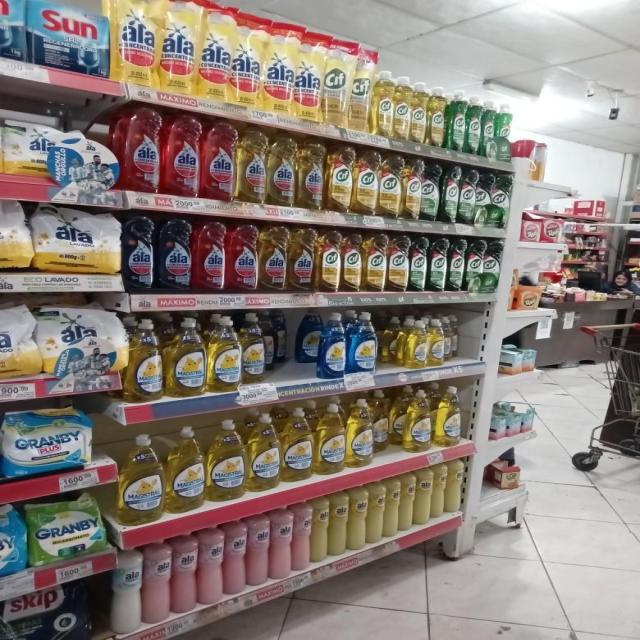ala_conc_amarillo: (237, 126, 266, 204), (268, 132, 296, 207), (296, 138, 324, 210), (260, 223, 288, 293), (289, 226, 316, 293)
ala_conc_azul: (121, 214, 156, 292), (158, 217, 192, 292)
ala_conc_rojo: (121, 104, 161, 194), (163, 111, 200, 198), (202, 118, 235, 201), (193, 220, 226, 292), (227, 221, 258, 293)
ala_crem_amarillo: (400, 472, 416, 532), (416, 468, 432, 526), (433, 464, 447, 521)
ala_crem_blanco: (109, 547, 142, 635)
ala_crem_rosado: (142, 541, 170, 624), (198, 525, 223, 606), (172, 534, 196, 614), (224, 520, 246, 596), (247, 514, 269, 588), (271, 508, 292, 580)
ala_sachet_amarillo: (112, 0, 157, 87), (160, 0, 197, 95), (198, 3, 232, 102), (232, 13, 262, 108), (263, 22, 293, 115), (294, 28, 322, 122), (323, 37, 347, 127)
cif_conc_bot_amarilla: (326, 142, 353, 213), (353, 147, 378, 215), (378, 152, 402, 219), (317, 229, 341, 293), (373, 71, 393, 138), (364, 233, 386, 292), (342, 232, 362, 292), (410, 80, 428, 145), (388, 235, 408, 292), (393, 76, 410, 142), (428, 86, 446, 148), (403, 157, 420, 220)
cif_conc_botella_verde: (420, 160, 440, 222), (491, 172, 511, 228), (448, 90, 466, 152), (428, 237, 447, 292), (410, 236, 428, 292), (441, 164, 458, 223), (483, 240, 502, 292), (466, 94, 481, 156), (466, 239, 483, 292), (459, 168, 475, 224), (448, 238, 464, 292), (475, 170, 490, 226), (482, 98, 496, 157)
magistral_con_amarillo: (118, 433, 164, 525), (166, 425, 205, 513), (166, 316, 206, 397), (207, 419, 246, 502), (126, 317, 163, 402), (208, 314, 241, 392), (248, 412, 280, 492), (282, 406, 313, 482), (316, 402, 345, 476), (346, 397, 374, 469), (242, 312, 267, 384), (404, 388, 432, 452), (435, 386, 463, 448), (404, 318, 426, 369), (428, 318, 446, 367)
magistral_con_azul: (318, 311, 346, 379), (348, 311, 378, 374), (296, 309, 319, 365)
